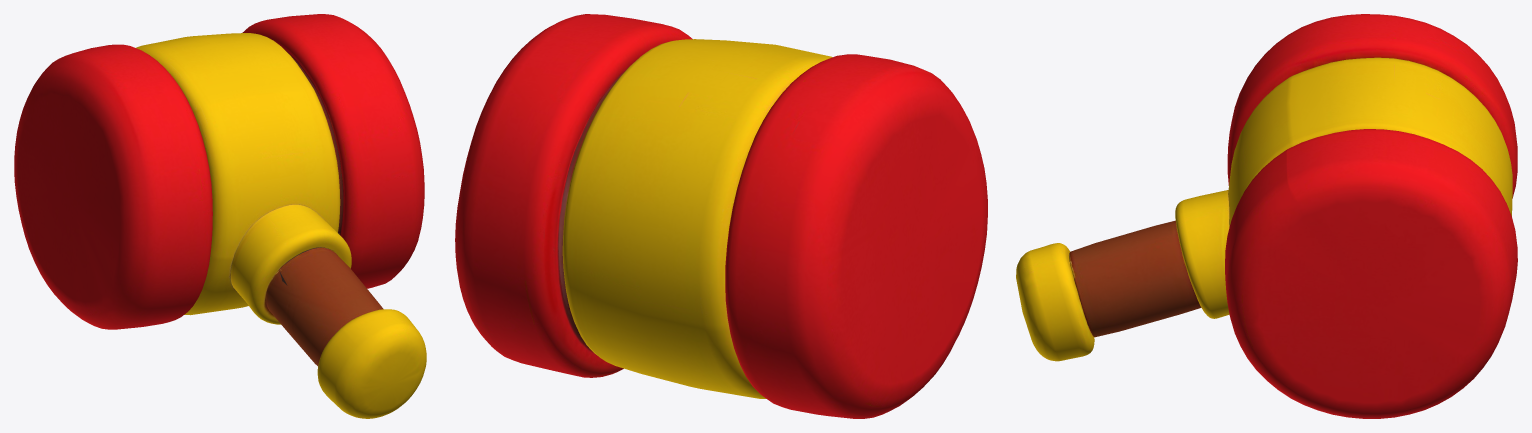
The model's file is weapon_hammer.glb.
The picture shows the model from 3 angles, left to right: view 1: azimuth 30°, elevation 25°; view 2: azimuth 150°, elevation 25°; view 3: azimuth 270°, elevation 25°; orthographic projection. The views are drawn at different scales.
Parts seen in each view (by area): view 1: tripo_node_9698ef22-f4de-40dc-a18d-4ed7a41e215e; view 2: tripo_node_9698ef22-f4de-40dc-a18d-4ed7a41e215e; view 3: tripo_node_9698ef22-f4de-40dc-a18d-4ed7a41e215e.
Boxes of the visible parts, bbox=[...] form: tripo_node_9698ef22-f4de-40dc-a18d-4ed7a41e215e: bbox=[14, 14, 426, 418]; tripo_node_9698ef22-f4de-40dc-a18d-4ed7a41e215e: bbox=[455, 14, 987, 418]; tripo_node_9698ef22-f4de-40dc-a18d-4ed7a41e215e: bbox=[1016, 14, 1517, 418].
Bounding box in the file's own units: 0.73 × 0.6157 × 0.9995.
1 material, 1 textured.
